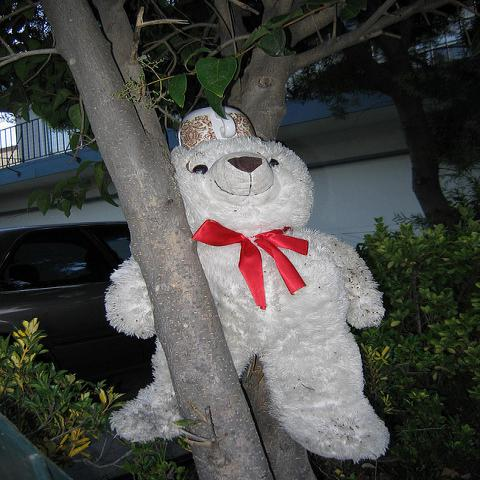car: (0, 220, 160, 394)
